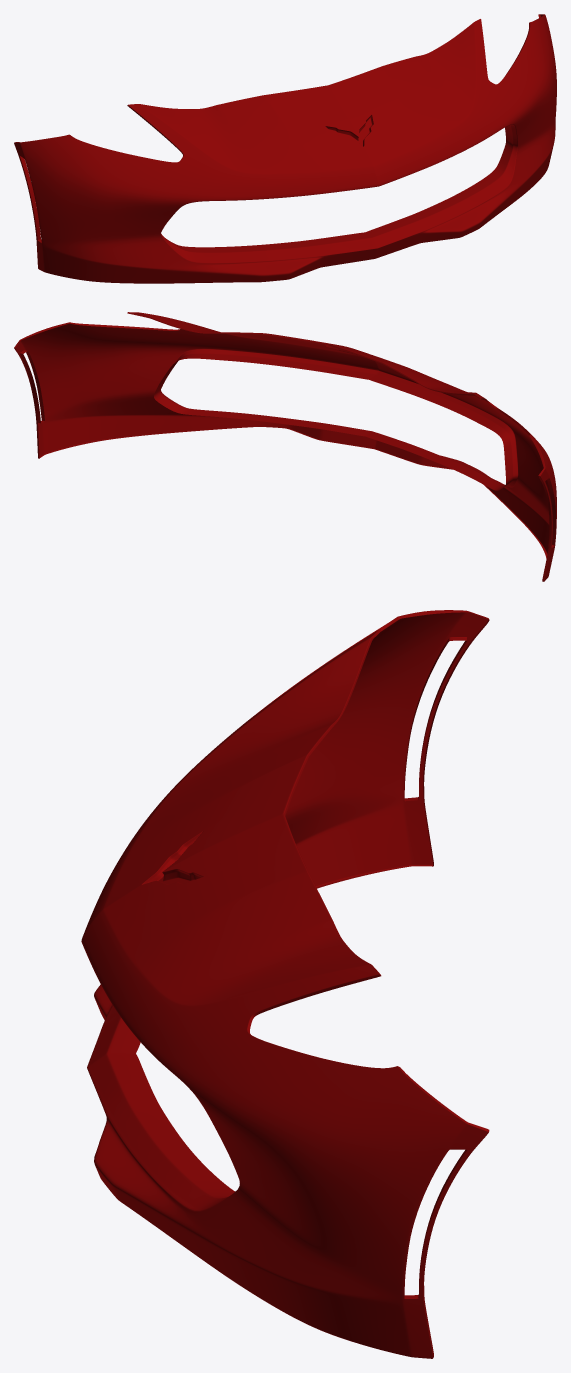
The model's file is c7frontbumper.glb.
3 views of the same model, one above another, from view 1: azimuth 30°, elevation 25°; view 2: azimuth 150°, elevation 25°; view 3: azimuth 270°, elevation 25° (orthographic). The views are drawn at different scales.
Visible parts, largest first — view 1: Front_Bumper_Crysal_Red_0; view 2: Front_Bumper_Crysal_Red_0; view 3: Front_Bumper_Crysal_Red_0.
Part boxes in pixels (<box>): Front_Bumper_Crysal_Red_0: <box>14,14,556,283</box>; Front_Bumper_Crysal_Red_0: <box>14,312,556,581</box>; Front_Bumper_Crysal_Red_0: <box>81,610,489,1358</box>.
Bounding box in the file's own units: 1.83 × 0.5176 × 0.6146.
